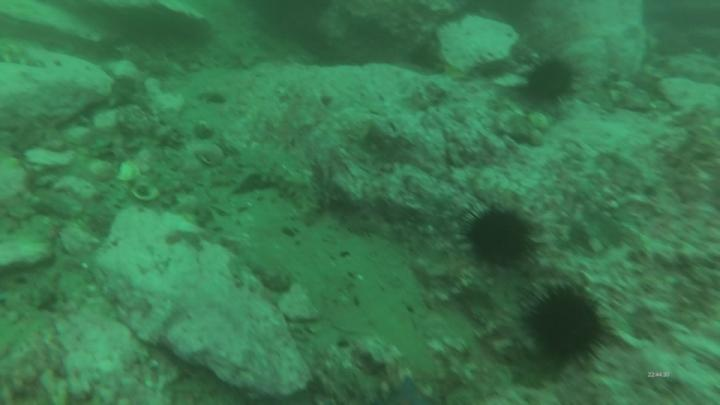echinus: (463, 198, 546, 279), (523, 285, 609, 363), (522, 51, 579, 107)
holothurian: (248, 142, 325, 226)
starfish: (380, 369, 439, 405)
